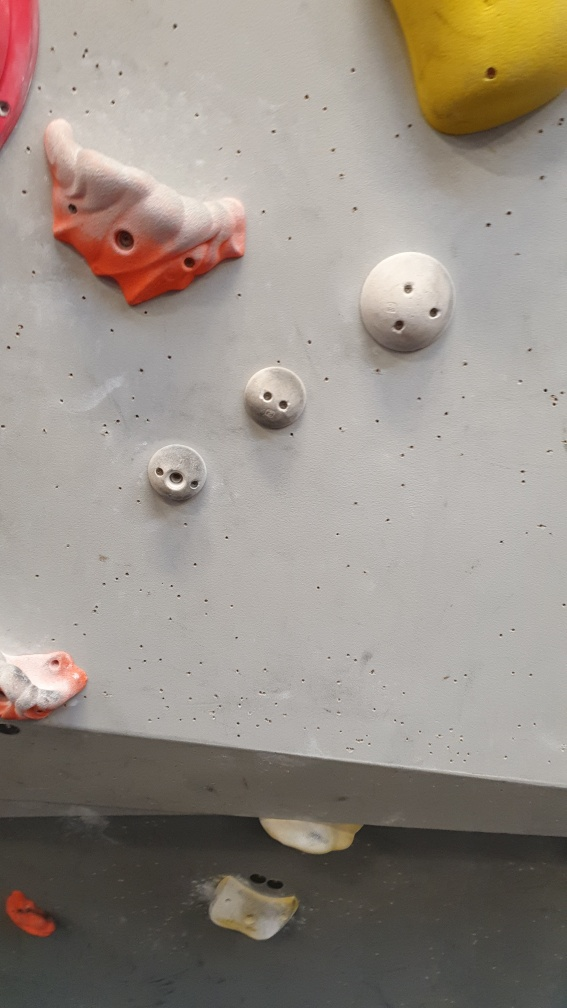Hand Start: (1, 721, 24, 741), (246, 870, 266, 886), (267, 878, 286, 894)
Jug: (40, 115, 253, 319), (5, 885, 58, 944)
Sloper: (359, 249, 459, 357), (143, 439, 215, 512), (240, 364, 309, 437)
